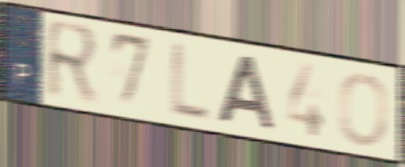4: (286, 60, 326, 143)
7: (108, 28, 156, 114)
A: (216, 52, 279, 133)
L: (168, 39, 211, 125)
O: (336, 71, 391, 149)
R: (44, 15, 103, 109)
